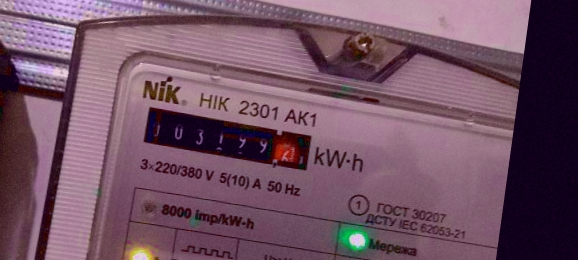0: (147, 116, 162, 138), (170, 119, 185, 140)
1: (214, 125, 226, 145)
3: (192, 125, 205, 145)
6: (279, 146, 291, 163)
9: (234, 129, 248, 150), (255, 133, 269, 154)
screen: (134, 100, 321, 179)
